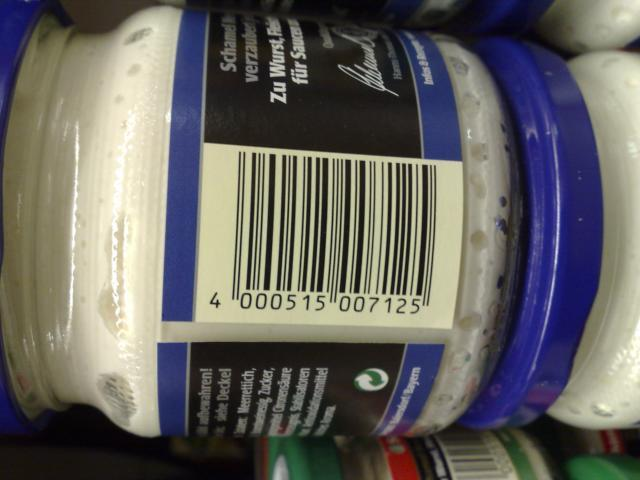Barcode: (195, 143, 464, 331)
